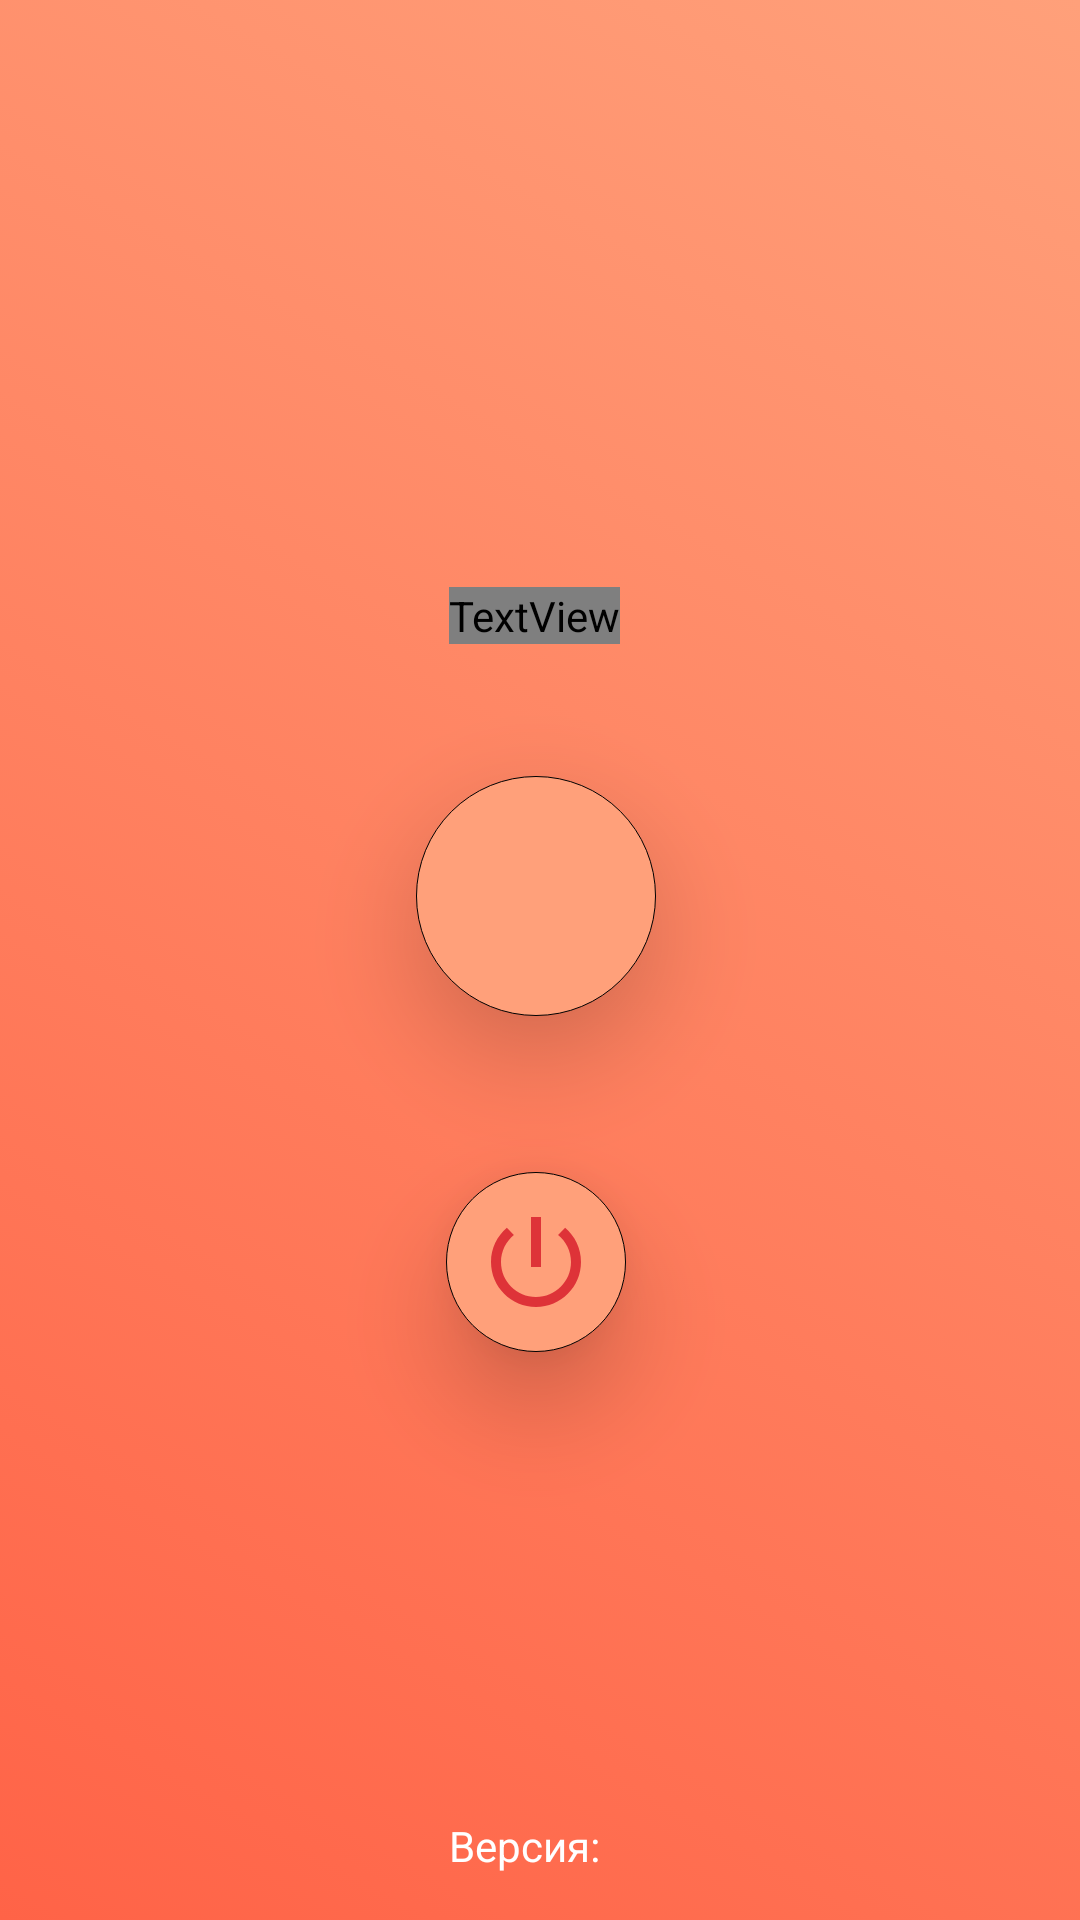

Where icons sit on this 1080*1920 app screen, as (x1, y1, x2, y2):
power settings: (446, 1172, 626, 1352)
